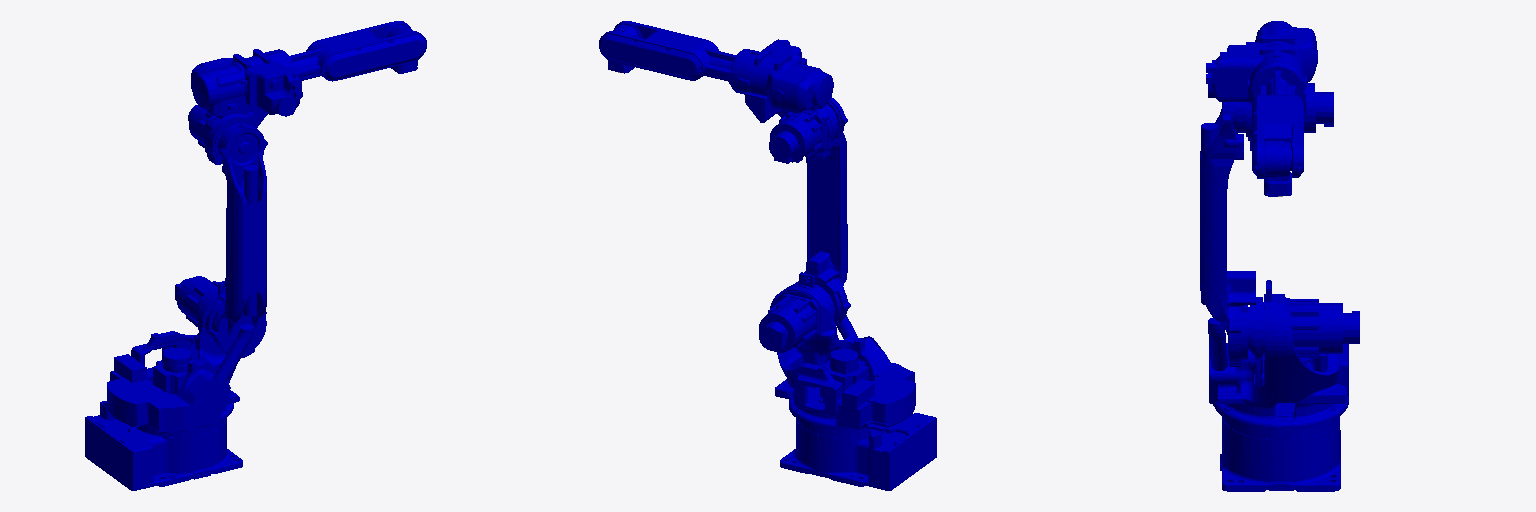
The robot description file, URDF, robot "motoman_mh6":
<robot
  name="motoman_mh6">
  <link
    name="base_link">
    <inertial>
      <origin
        xyz="-0.046898 -4.8744E-05 0.080344"
        rpy="0 0 0" />
      <mass
        value="15.905" />
      <inertia
        ixx="0.1326"
        ixy="2.7799E-05"
        ixz="-0.0058622"
        iyy="0.217"
        iyz="-0.00025873"
        izz="0.28035" />
    </inertial>
    <visual>
      <origin
        xyz="0 0 0"
        rpy="0 0 0" />
      <geometry>
        <mesh
          filename="package://motoman_mh6_support/meshes/base_link.STL" />
      </geometry>
      <material
        name="">
        <color
          rgba="0 0 0.8 1" />
      </material>
    </visual>
    <collision>
      <origin
        xyz="0 0 0"
        rpy="0 0 0" />
      <geometry>
        <mesh
          filename="package://motoman_mh6_support/meshes/base_link.STL" />
      </geometry>
    </collision>
  </link>
  <link
    name="link_s">
    <inertial>
      <origin
        xyz="0.030126 -0.00080303 0.13267"
        rpy="0 0 0" />
      <mass
        value="15.506" />
      <inertia
        ixx="0.29659"
        ixy="-0.015158"
        ixz="-0.1263"
        iyy="0.37613"
        iyz="-0.022927"
        izz="0.32396" />
    </inertial>
    <visual>
      <origin
        xyz="0 0 0"
        rpy="0 0 0" />
      <geometry>
        <mesh
          filename="package://motoman_mh6_support/meshes/link_s.STL" />
      </geometry>
      <material
        name="">
        <color
          rgba="0 0 0.8 1" />
      </material>
    </visual>
    <collision>
      <origin
        xyz="0 0 0"
        rpy="0 0 0" />
      <geometry>
        <mesh
          filename="package://motoman_mh6_support/meshes/link_s.STL" />
      </geometry>
    </collision>
  </link>
  <joint
    name="joint_s"
    type="revolute">
    <origin
      xyz="0 0 0.168"
      rpy="-2.5402E-20 -2.3828E-20 0.0035466" />
    <parent
      link="base_link" />
    <child
      link="link_s" />
    <axis
      xyz="0 0 1" />
    <limit effort="0" lower="-2.9670" upper="2.9670" velocity="2.4434"/>
  </joint>
  <link
    name="link_l">
    <inertial>
      <origin
        xyz="0.25767 0.00022443 -0.064536"
        rpy="0 0 0" />
      <mass
        value="5.1683" />
      <inertia
        ixx="0.012104"
        ixy="-0.0002442"
        ixz="0.012457"
        iyy="0.21473"
        iyz="-2.951E-05"
        izz="0.21607" />
    </inertial>
    <visual>
      <origin
        xyz="0 0 0"
        rpy="0 0 0" />
      <geometry>
        <mesh
          filename="package://motoman_mh6_support/meshes/link_l.STL" />
      </geometry>
      <material
        name="">
        <color
          rgba="0 0 0.8 1" />
      </material>
    </visual>
    <collision>
      <origin
        xyz="0 0 0"
        rpy="0 0 0" />
      <geometry>
        <mesh
          filename="package://motoman_mh6_support/meshes/link_l.STL" />
      </geometry>
    </collision>
  </link>
  <joint
    name="joint_l"
    type="revolute">
    <origin
      xyz="0.15 -0.0835 0.285"
      rpy="-1.5708 -1.5669 -1.9989E-15" />
    <parent
      link="link_s" />
    <child
      link="link_l" />
    <axis
      xyz="0 0 1" />
    <limit effort="0" lower="-1.5708" upper="2.70526" velocity="2.2689"/>
  </joint>
  <link
    name="link_u">
    <inertial>
      <origin
        xyz="0.053413 0.095646 -0.097917"
        rpy="0 0 0" />
      <mass
        value="9.6895" />
      <inertia
        ixx="0.098855"
        ixy="-0.026162"
        ixz="-0.012054"
        iyy="0.091195"
        iyz="-0.0048318"
        izz="0.11565" />
    </inertial>
    <visual>
      <origin
        xyz="0 0 0"
        rpy="0 0 0" />
      <geometry>
        <mesh
          filename="package://motoman_mh6_support/meshes/link_u.STL" />
      </geometry>
      <material
        name="">
        <color
          rgba="0 0 0.8 1" />
      </material>
    </visual>
    <collision>
      <origin
        xyz="0 0 0"
        rpy="0 0 0" />
      <geometry>
        <mesh
          filename="package://motoman_mh6_support/meshes/link_u.STL" />
      </geometry>
    </collision>
  </link>
  <joint
    name="joint_u"
    type="revolute">
    <origin
      xyz="0.614 0 -0.0355"
      rpy="3.1416 -1.3099E-16 1.5649" />
    <parent
      link="link_l" />
    <child
      link="link_u" />
    <axis
      xyz="0 0 1" />
    <limit effort="0" lower="-3.0543" upper="4.3633" velocity="2.3561"/>
  </joint>
  <link
    name="link_r">
    <inertial>
      <origin
        xyz="-1.8951E-06 -6.3779E-06 -0.24003"
        rpy="0 0 0" />
      <mass
        value="3.8716" />
      <inertia
        ixx="0.060031"
        ixy="-2.1614E-07"
        ixz="-1.3069E-06"
        iyy="0.057245"
        iyz="-1.1285E-05"
        izz="0.0077778" />
    </inertial>
    <visual>
      <origin
        xyz="0 0 0"
        rpy="0 0 0" />
      <geometry>
        <mesh
          filename="package://motoman_mh6_support/meshes/link_r.STL" />
      </geometry>
      <material
        name="">
        <color
          rgba="0 0 0.8 1" />
      </material>
    </visual>
    <collision>
      <origin
        xyz="0 0 0"
        rpy="0 0 0" />
      <geometry>
        <mesh
          filename="package://motoman_mh6_support/meshes/link_r.STL" />
      </geometry>
    </collision>
  </link>
  <joint
    name="joint_r"
    type="revolute">
    <origin
      xyz="0.2039 0.155 -0.109"
      rpy="-1.5708 -0.0040951 1.5708" />
    <parent
      link="link_u" />
    <child
      link="link_r" />
    <axis
      xyz="0 0 1" />
    <limit effort="12.2" lower="-3.1415" upper="3.1415" velocity="4.7123"/>
  </joint>
  <link
    name="link_b">
    <inertial>
      <origin
        xyz="-0.022651 5.4716E-05 -0.030643"
        rpy="0 0 0" />
      <mass
        value="0.56449" />
      <inertia
        ixx="0.00044154"
        ixy="-2.8985E-06"
        ixz="-2.7432E-06"
        iyy="0.00094067"
        iyz="9.2144E-07"
        izz="0.0010078" />
    </inertial>
    <visual>
      <origin
        xyz="0 0 0"
        rpy="0 0 0" />
      <geometry>
        <mesh
          filename="package://motoman_mh6_support/meshes/link_b.STL" />
      </geometry>
      <material
        name="">
        <color
          rgba="0 0 0.8 1" />
      </material>
    </visual>
    <collision>
      <origin
        xyz="0 0 0"
        rpy="0 0 0" />
      <geometry>
        <mesh
          filename="package://motoman_mh6_support/meshes/link_b.STL" />
      </geometry>
    </collision>
  </link>
  <joint
    name="joint_b"
    type="revolute">
    <origin
      xyz="0 0.0305 -0.435"
      rpy="-1.5708 0.0038822 1.2634E-14" />
    <parent
      link="link_r" />
    <child
      link="link_b" />
    <axis
      xyz="0 0 -1" />
    <limit effort="14.2" lower="-0.7853" upper="3.9269" velocity="4.7123"/>
  </joint>
  <link
    name="link_t">
    <inertial>
      <origin
        xyz="-0.0016711 8.194E-08 -0.0031936"
        rpy="0 0 0" />
      <mass
        value="0.006345" />
      <inertia
        ixx="1.1644E-06"
        ixy="-7.9965E-12"
        ixz="-3.2237E-09"
        iyy="1.3446E-06"
        iyz="-1.2121E-12"
        izz="2.4637E-06" />
    </inertial>
    <visual>
      <origin
        xyz="0 0 0"
        rpy="0 0 0" />
      <geometry>
        <mesh
          filename="package://motoman_mh6_support/meshes/link_t.STL" />
      </geometry>
      <material
        name="">
        <color
          rgba="0.7 0.7 0.7 1" />
      </material>
    </visual>
    <collision>
      <origin
        xyz="0 0 0"
        rpy="0 0 0" />
      <geometry>
        <mesh
          filename="package://motoman_mh6_support/meshes/link_t.STL" />
      </geometry>
    </collision>
  </link>
  <joint
    name="joint_t"
    type="revolute">
    <origin
      xyz="-0.088 -8.8963E-05 -0.030589"
      rpy="1.5708 0.70401 1.5708" />
    <parent
      link="link_b" />
    <child
      link="link_t" />
    <axis
      xyz="0 0 1" />
    <limit effort="7.3" lower="-6.2831" upper="6.2831" velocity="6.9813"/>
  </joint>
</robot>

--- What the picture shows (computed from the rendered views, not written in the file) ---
The picture shows the robot from 3 angles, left to right: view 1: azimuth 30°, elevation 25°; view 2: azimuth 150°, elevation 25°; view 3: azimuth 270°, elevation 25°; orthographic projection.
Model motoman_mh6 with 7 links and 6 joints (6 revolute), rooted at base_link, posed all joints at 0.
Visible links, largest first — view 1: link_s, link_l, base_link, link_u, link_r; view 2: link_s, link_u, base_link, link_l, link_r; view 3: link_s, link_l, base_link, link_u, link_r, link_b.
Link boxes in pixels (x1,y1,x2,y2): link_s: (103,276,253,432); link_l: (210,123,267,357); base_link: (85,401,242,490); link_u: (188,49,302,164); link_r: (278,21,426,81); link_s: (759,272,915,430); link_u: (733,39,837,163); base_link: (780,413,936,490); link_l: (795,97,850,324); link_r: (599,21,749,92); link_s: (1208,280,1359,431); link_l: (1200,102,1255,366); base_link: (1220,416,1340,491); link_u: (1206,21,1333,150); link_r: (1250,62,1303,178); link_b: (1264,141,1291,196).
Bounding box of the posed robot: 1.09 × 0.4049 × 1.3 m (x, y, z).
Meshes: 7 distinct files referenced, 7 mesh visuals loaded (7 binary STL).